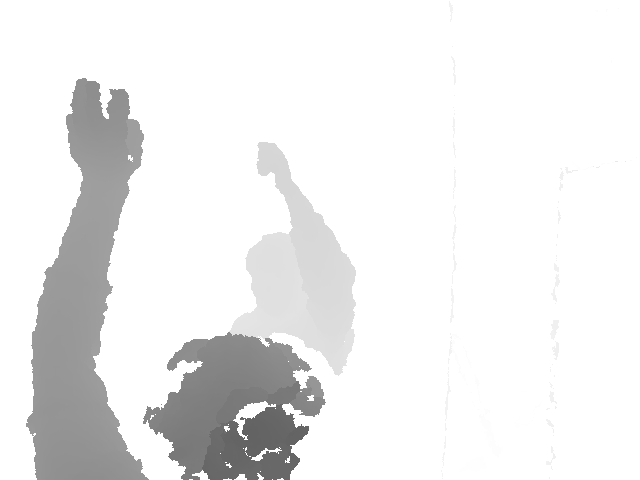hand: (66, 78, 144, 185), (255, 142, 292, 189)
head: (142, 332, 327, 480), (244, 230, 309, 311)
person: (26, 78, 327, 480), (225, 141, 357, 378)
